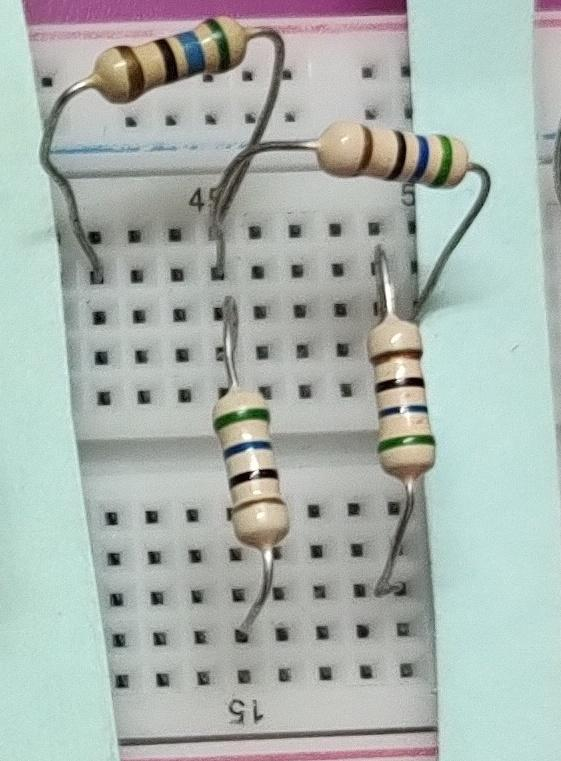resistor: (205, 369, 307, 569), (70, 6, 267, 106), (312, 108, 490, 205), (359, 315, 456, 488)
